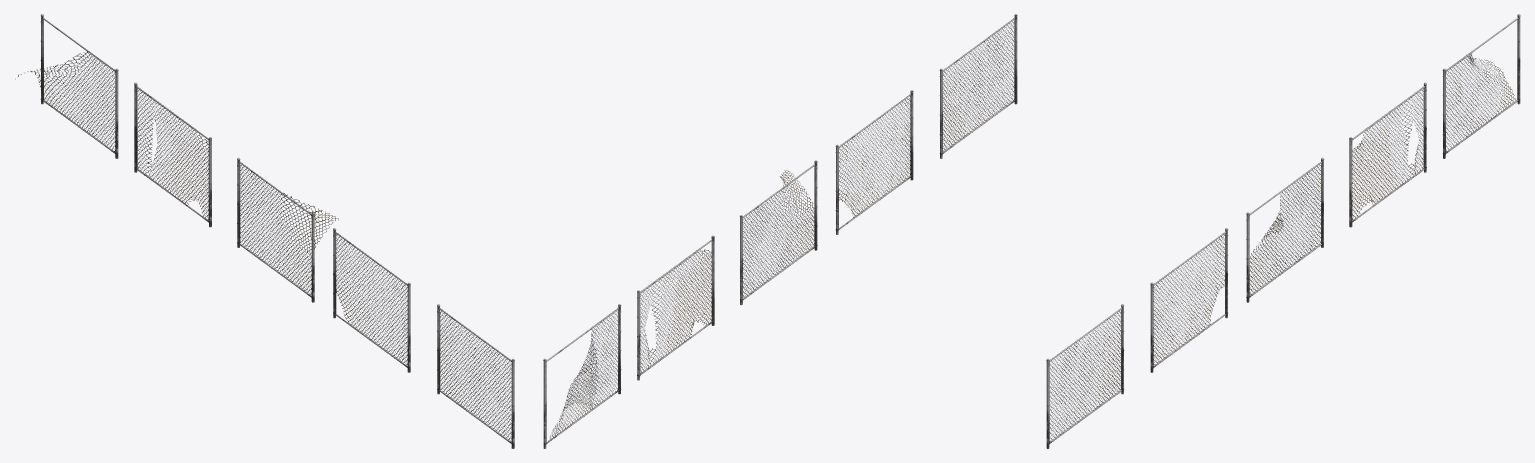
Rendered from damaged_chainlink_fence.glb.
3 views of the same model, side by side, from view 1: azimuth 30°, elevation 25°; view 2: azimuth 150°, elevation 25°; view 3: azimuth 330°, elevation 25° (orthographic).
Visible parts, largest first — view 1: Plane.003, Plane.001, Plane.002, Plane.005, Plane.006, Cylinder.006, Cylinder, Cylinder.003, Cylinder.012, Cylinder.009; view 2: Plane.001, Plane.003, Plane.002, Plane.005, Plane.006, Cylinder.009, Cylinder, Cylinder.012, Cylinder.006, Cylinder.003; view 3: Plane.001, Plane.002, Plane.005, Plane.003, Plane.006, Cylinder.009, Cylinder, Cylinder.003, Cylinder.012, Cylinder.006.
Part boxes in pixels (x1,y1,x2,y2): Plane.003: [240, 161, 338, 295]; Plane.001: [440, 311, 511, 441]; Plane.002: [336, 233, 407, 364]; Plane.005: [137, 88, 208, 219]; Plane.006: [15, 51, 115, 151]; Cylinder.006: [237, 157, 314, 302]; Cylinder: [437, 304, 514, 448]; Cylinder.003: [333, 228, 410, 372]; Cylinder.012: [40, 14, 118, 158]; Cylinder.009: [134, 82, 211, 227]; Plane.001: [943, 18, 1014, 151]; Plane.003: [743, 170, 814, 297]; Plane.002: [839, 96, 910, 217]; Plane.005: [640, 249, 711, 373]; Plane.006: [548, 308, 618, 441]; Cylinder.009: [637, 235, 714, 380]; Cylinder: [939, 14, 1017, 158]; Cylinder.012: [543, 304, 621, 448]; Cylinder.006: [739, 160, 817, 305]; Cylinder.003: [835, 90, 913, 234]; Plane.001: [1049, 311, 1121, 441]; Plane.002: [1153, 234, 1225, 364]; Plane.005: [1352, 86, 1423, 219]; Plane.003: [1249, 164, 1321, 294]; Plane.006: [1446, 53, 1516, 151]; Cylinder.009: [1349, 82, 1426, 227]; Cylinder: [1046, 304, 1124, 448]; Cylinder.003: [1150, 228, 1228, 372]; Cylinder.012: [1442, 14, 1520, 158]; Cylinder.006: [1246, 157, 1324, 302].
Bounding box in the file's own units: 1.48 × 1.9 × 18.19.
1 material, 1 textured.
